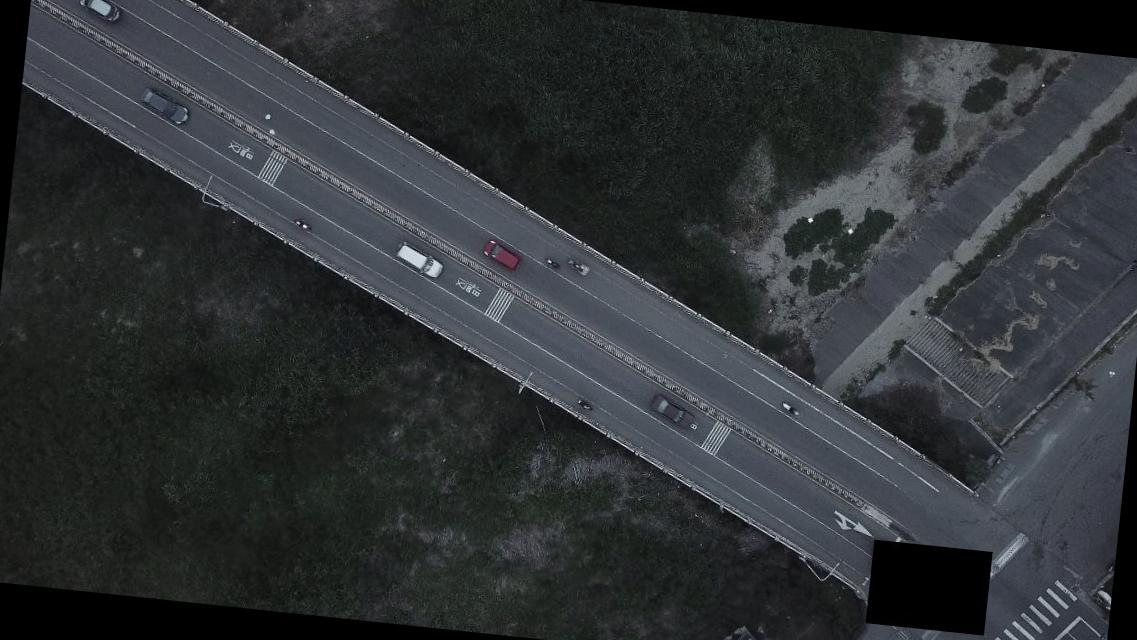vehicle: (646, 392, 698, 432), (392, 240, 445, 278), (138, 89, 190, 126), (483, 239, 524, 272), (75, 0, 123, 22)
